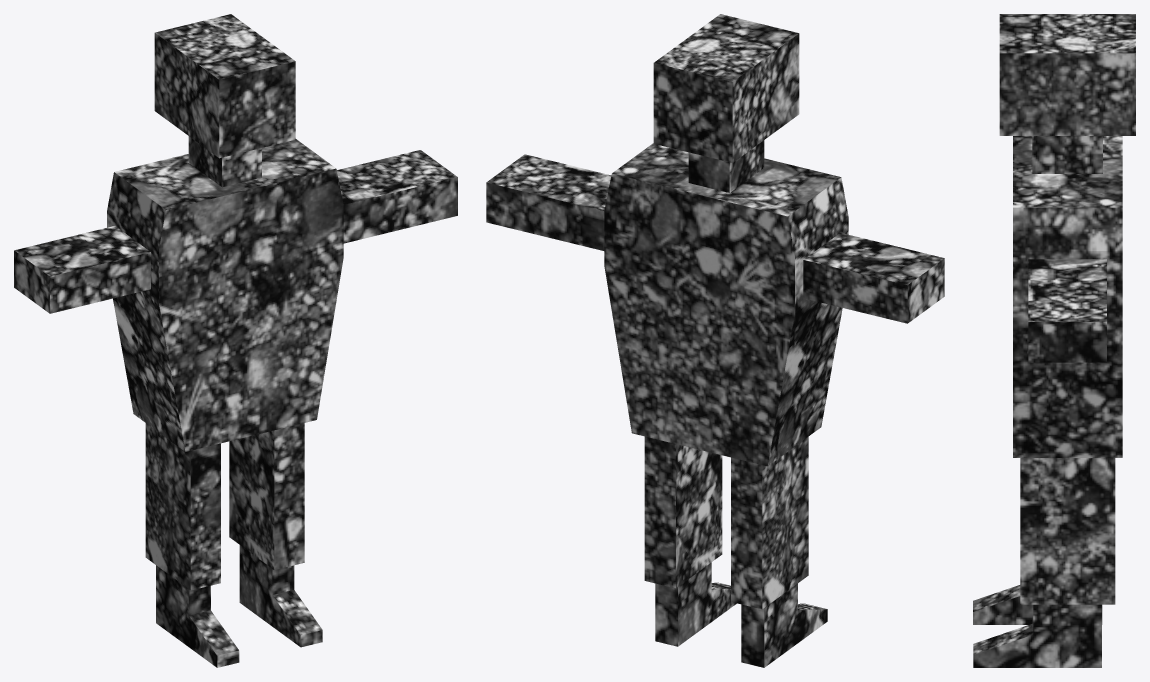
File: bohnomme.obj
3 views of the same model, side by side, from view 1: azimuth 30°, elevation 25°; view 2: azimuth 150°, elevation 25°; view 3: azimuth 270°, elevation 25° (orthographic). The views are drawn at different scales.
Visible parts, largest first — view 1: Cube.001_Cube.002; view 2: Cube.001_Cube.002; view 3: Cube.001_Cube.002.
Boxes of the visible parts, x1=… form: Cube.001_Cube.002: x1=14, y1=14, x2=457, y2=667; Cube.001_Cube.002: x1=486, y1=14, x2=944, y2=667; Cube.001_Cube.002: x1=973, y1=14, x2=1135, y2=667.
Size of the model in its own units: 6.67 by 9 by 2.19.
1 material, 1 textured.
